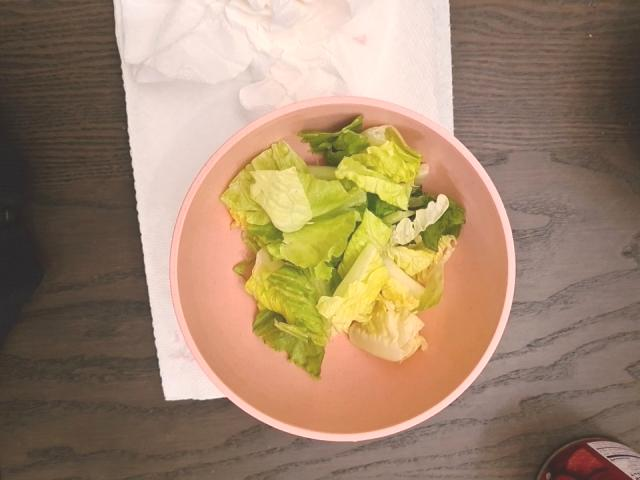kichen waste: (221, 114, 465, 379)
